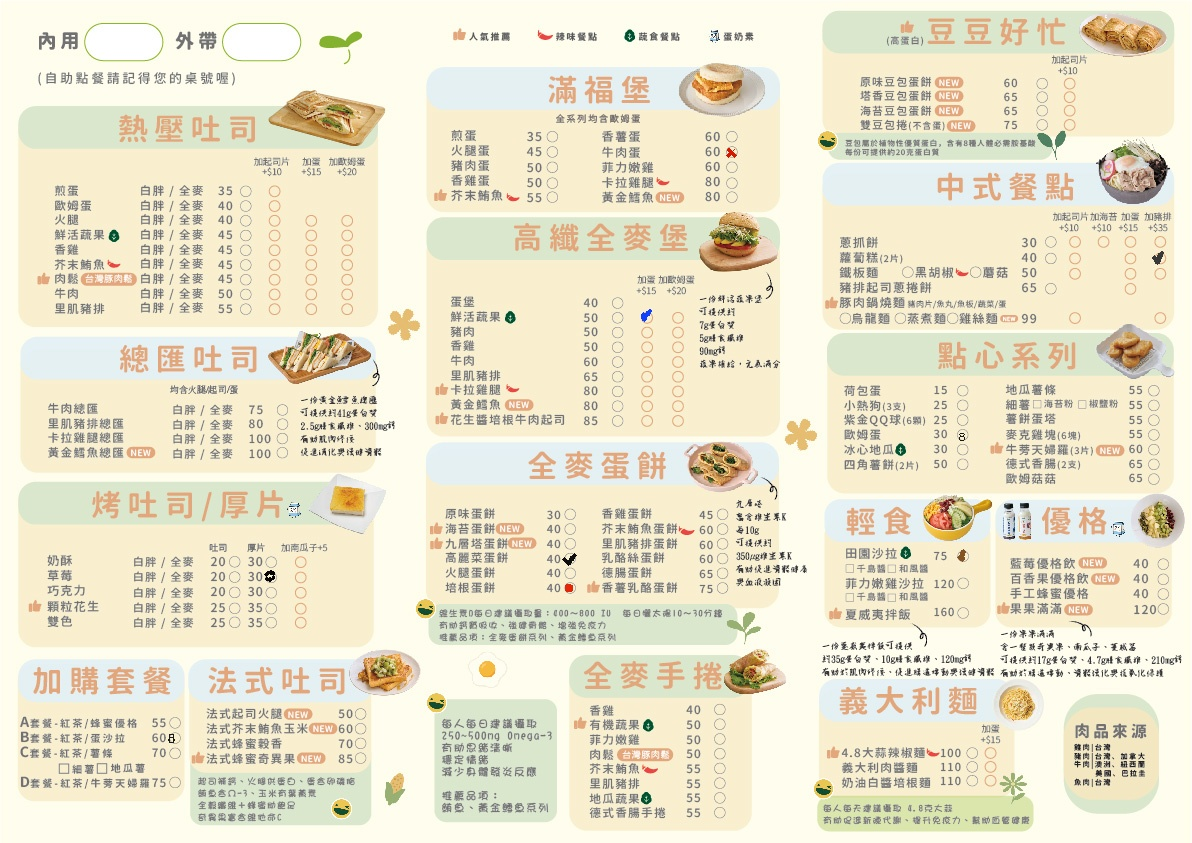marked_circle: (564, 582, 574, 593)
marked_hollow: (265, 571, 275, 582)
marked_number_8: (956, 429, 966, 440), (168, 733, 178, 744)
marked_tick: (641, 311, 651, 322), (564, 554, 574, 565), (1154, 253, 1164, 264), (957, 550, 967, 561)
marked_x: (726, 147, 736, 158)
